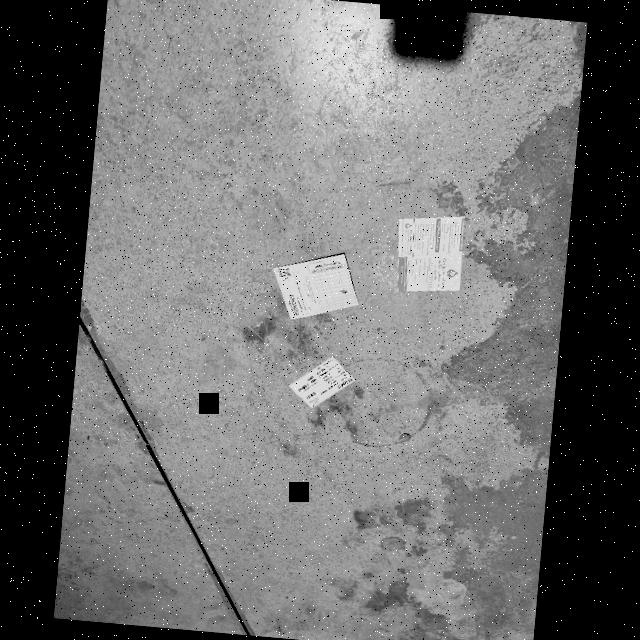scrap_paper: (260, 245, 372, 330), (383, 209, 483, 304), (282, 340, 364, 414)
